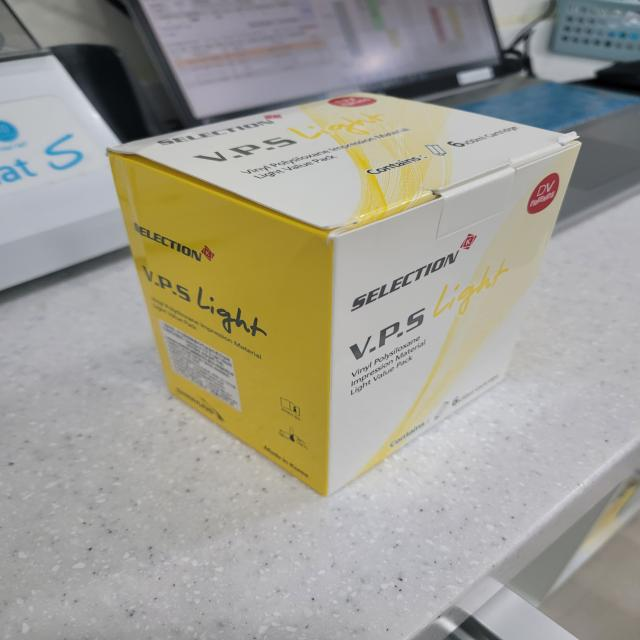impression: (86, 78, 598, 512)
